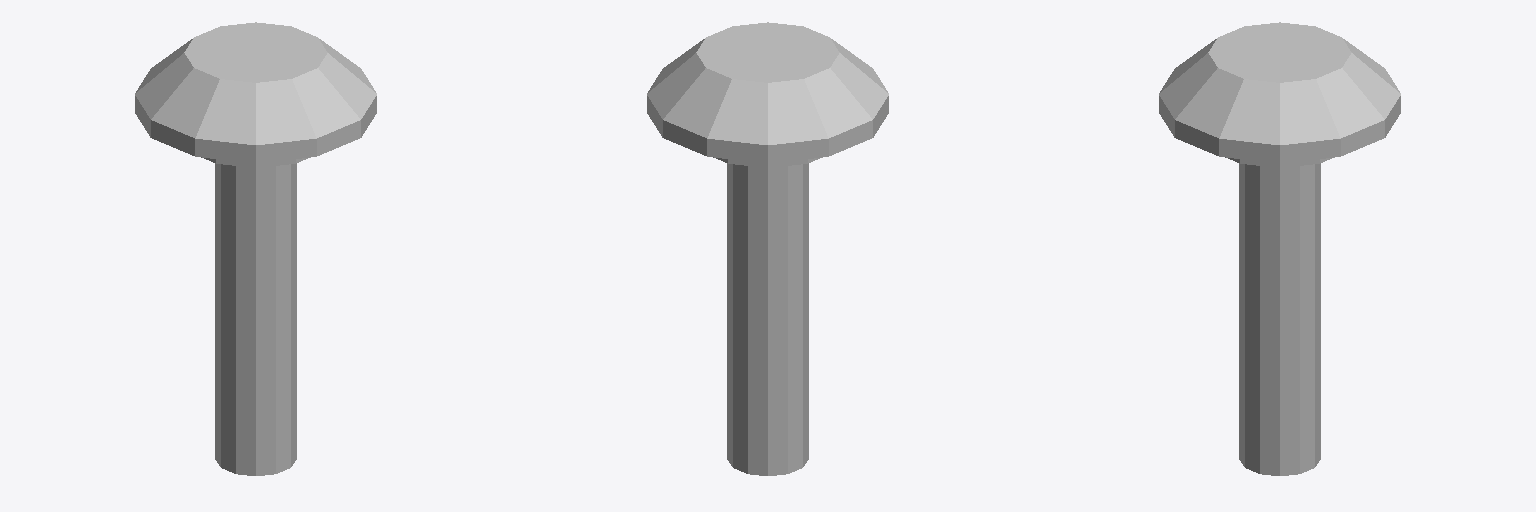
Rendered from TubaKey3.obj.
3 views of the same model, side by side, from view 1: azimuth 30°, elevation 25°; view 2: azimuth 150°, elevation 25°; view 3: azimuth 270°, elevation 25° (orthographic).
Parts seen in each view (by area): view 1: Converted object 0(m0), Converted object 0(m1); view 2: Converted object 0(m0), Converted object 0(m1); view 3: Converted object 0(m0), Converted object 0(m1).
Boxes of the visible parts, box(x1,y1,x2,y2) form: Converted object 0(m0): box(135, 22, 376, 167); Converted object 0(m1): box(215, 163, 296, 475); Converted object 0(m0): box(647, 22, 888, 167); Converted object 0(m1): box(727, 163, 808, 475); Converted object 0(m0): box(1159, 22, 1400, 167); Converted object 0(m1): box(1239, 163, 1320, 475).
Bounding box in the file's own units: 0.6058 × 1.12 × 0.6058.